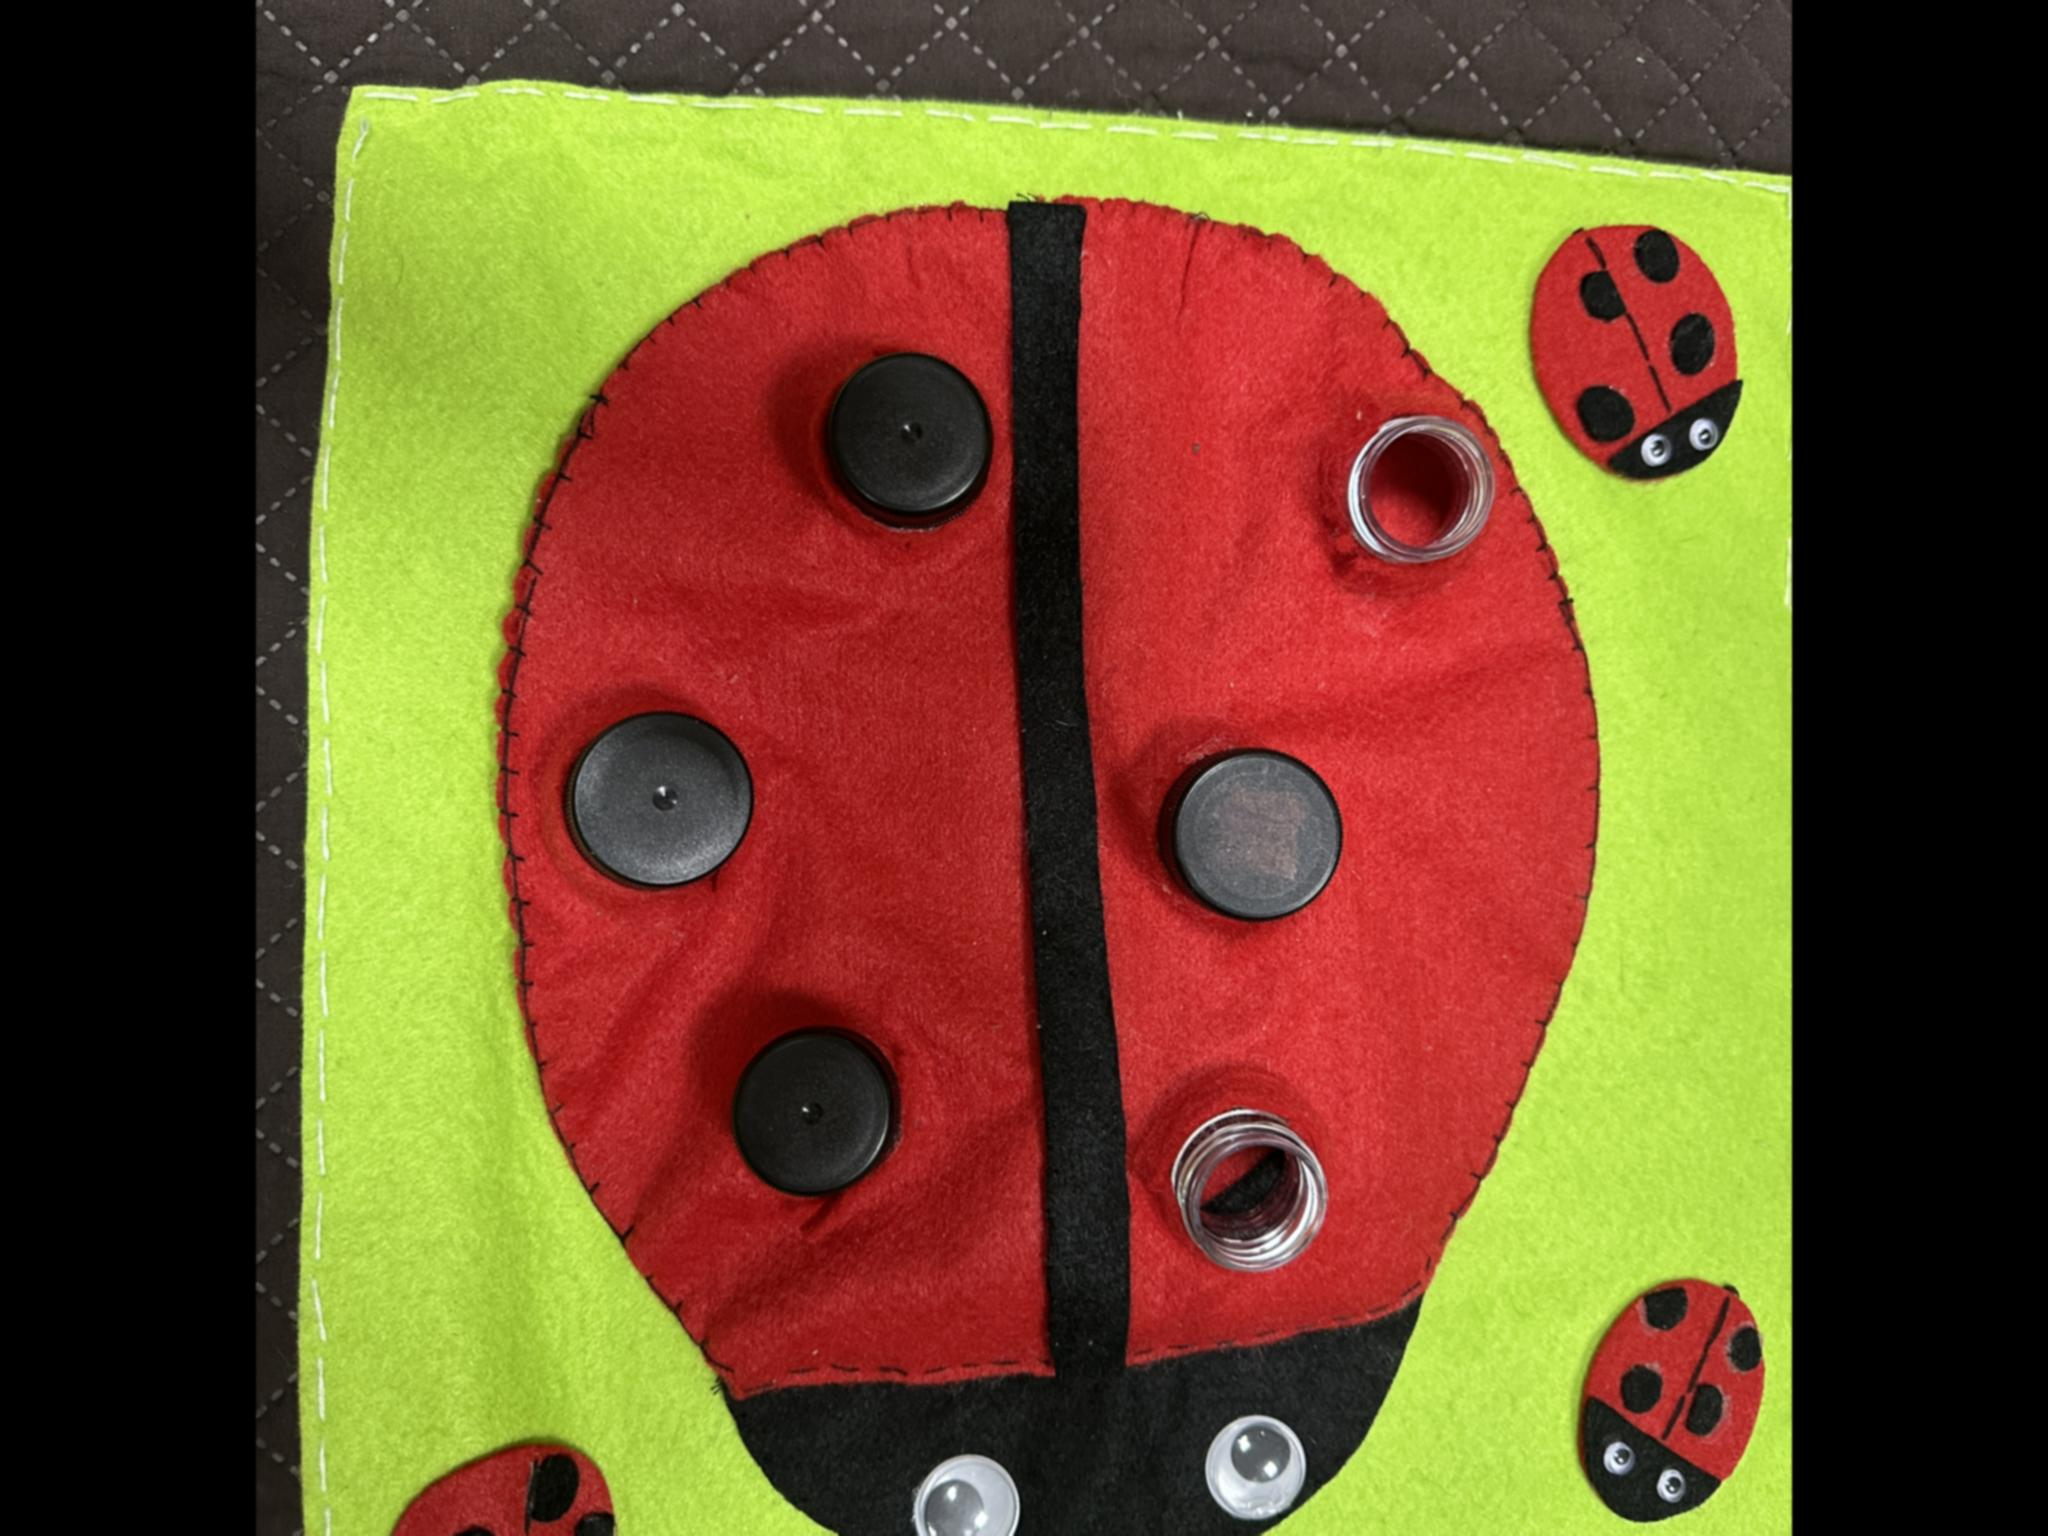cap_ok: (534, 678, 797, 933), (769, 324, 1030, 568), (1116, 700, 1372, 944), (711, 1000, 943, 1234)
